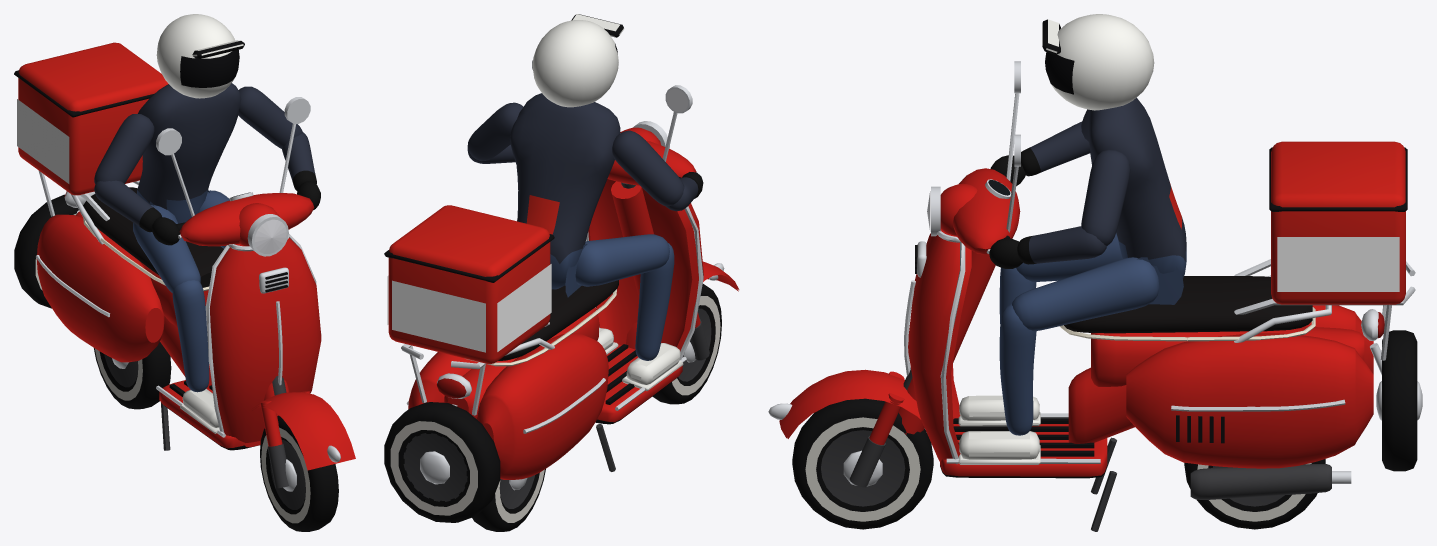
Rendered from bike_retro.glb.
The picture shows the model from 3 angles, left to right: view 1: azimuth 30°, elevation 25°; view 2: azimuth 150°, elevation 25°; view 3: azimuth 270°, elevation 25°; orthographic projection. The views are drawn at different scales.
Parts seen in each view (by area): view 1: retro_body, steer_mesh, rider_body, rider_head, wheel_front, rider_shin_L, wheel_rear, rider_uarm_L, spare_wheel, rider_farm_L, rider_thigh_L, rider_uarm_R (+1 smaller); view 2: retro_body, rider_body, spare_wheel, rider_head, rider_shin_L, steer_mesh, rider_thigh_L, wheel_front, rider_uarm_L, wheel_rear, rider_uarm_R, rider_farm_L; view 3: retro_body, wheel_front, steer_mesh, rider_body, rider_head, rider_thigh_R, rider_shin_R, spare_wheel, rider_uarm_R, rider_farm_R, wheel_rear, rider_shin_L (+2 smaller).
Boxes of the visible parts, x1,y1,x2,y2 form: retro_body: (14, 42, 321, 450); steer_mesh: (156, 97, 355, 488); rider_body: (137, 83, 241, 223); rider_head: (156, 14, 244, 98); wheel_front: (260, 415, 338, 531); rider_shin_L: (172, 280, 219, 433); wheel_rear: (94, 342, 171, 409); rider_uarm_L: (94, 114, 154, 184); spare_wheel: (14, 194, 78, 308); rider_farm_L: (94, 180, 180, 245); rider_thigh_L: (133, 205, 200, 292); rider_uarm_R: (238, 86, 302, 148); retro_body: (384, 179, 703, 479); rider_body: (510, 93, 620, 297); spare_wheel: (384, 402, 500, 522); rider_head: (532, 14, 624, 107); rider_shin_L: (622, 243, 683, 390); steer_mesh: (532, 60, 739, 360); rider_thigh_L: (575, 234, 669, 286); wheel_front: (652, 283, 721, 404); rider_uarm_L: (612, 130, 684, 206); wheel_rear: (472, 469, 545, 531); rider_uarm_R: (467, 102, 523, 161); rider_farm_L: (665, 172, 703, 211); retro_body: (898, 141, 1415, 531); wheel_front: (792, 398, 933, 529); steer_mesh: (768, 61, 1020, 487); rider_body: (1088, 97, 1186, 304); rider_head: (1042, 14, 1154, 110); rider_thigh_R: (1012, 257, 1159, 331); rider_shin_R: (958, 304, 1040, 464); spare_wheel: (1376, 330, 1422, 471); rider_uarm_R: (1081, 149, 1130, 246); rider_farm_R: (989, 226, 1106, 268); wheel_rear: (1184, 459, 1325, 529); rider_shin_L: (958, 267, 1040, 426).
Size of the model in its own units: 0.8849 by 1.74 by 2.04.
